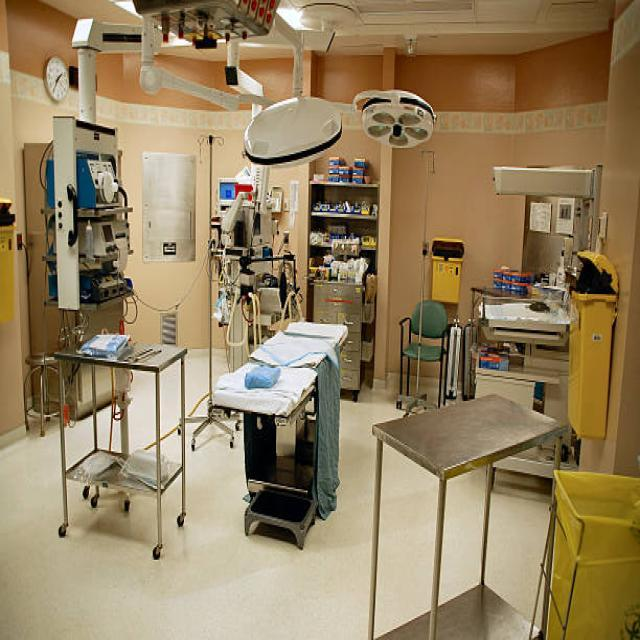Saline Stand: (181, 131, 251, 484), (389, 139, 456, 432)
bed: (212, 307, 348, 553)
tools_table: (369, 386, 558, 640), (50, 323, 193, 567)
